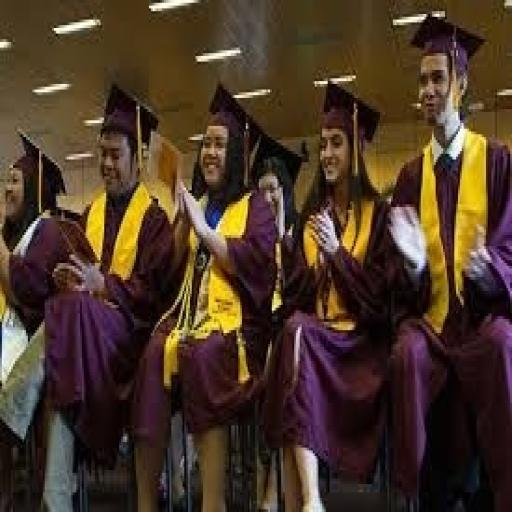clapping: (8, 27, 512, 491)
